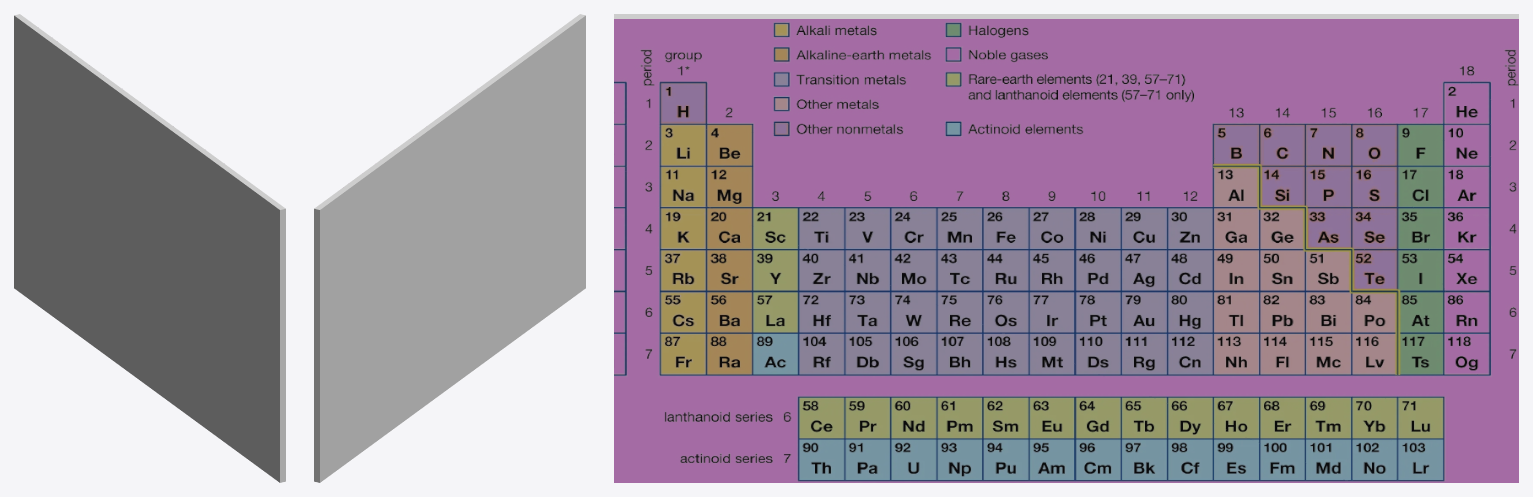
File: periodictableOfElements.fbx
3 renders of one model, left to right at view 1: azimuth 30°, elevation 25°; view 2: azimuth 150°, elevation 25°; view 3: azimuth 270°, elevation 25°, orthographic. The views are drawn at different scales.
Visible parts, largest first — view 1: Cube; view 2: Cube; view 3: Cube, Oxygen.
Boxes of the visible parts, bbox=[...] form: Cube: bbox=[14, 14, 285, 482]; Cube: bbox=[314, 14, 585, 482]; Cube: bbox=[614, 14, 1518, 482]; Oxygen: bbox=[1352, 124, 1397, 166].
Size of the model in its own units: 4.54 by 200 by 353.
